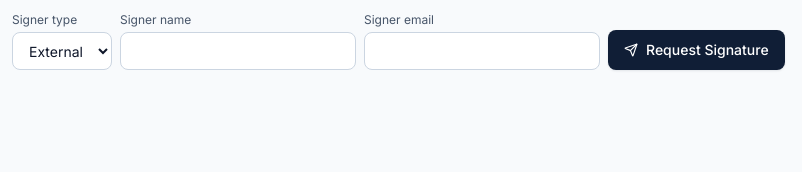
Scenario: InitiateSignatureForm — Internal signer › switching to Internal shows a directory picker instead of free-text fields
The width and height of the screenshot is (802, 172).
Select "Internal" in the dropdown labelled "Signer type" at (62, 51), box [12,32,112,70]
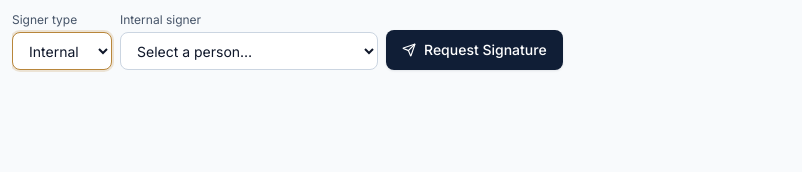
Check: the label labelled "Signer name" is gone
Check: the label labelled "Signer email" is gone
